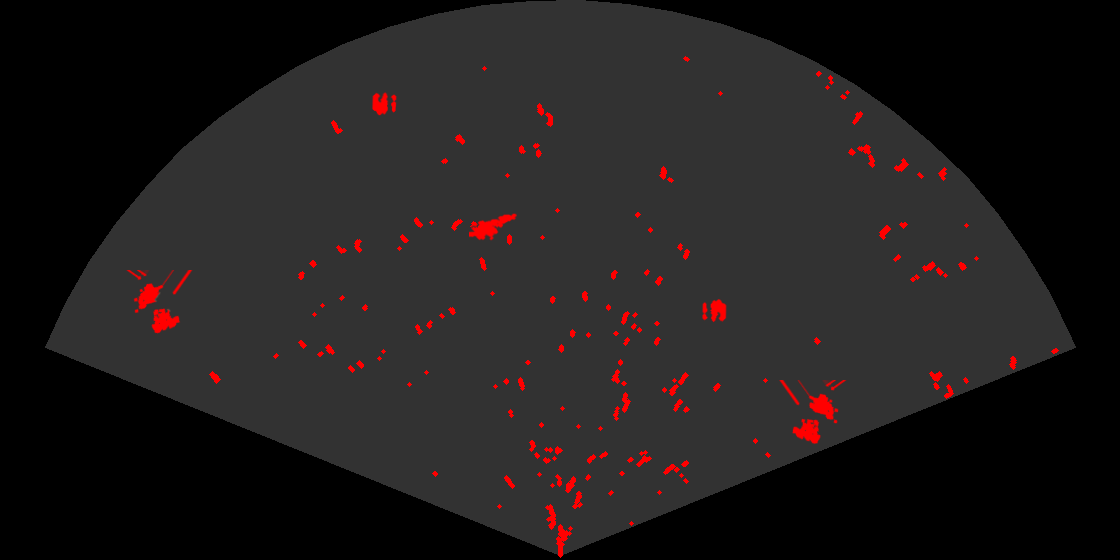ball: (701, 298, 728, 324), (371, 91, 398, 117)
cage: (778, 380, 848, 446), (125, 270, 194, 335)
frogman: (469, 212, 517, 242)
